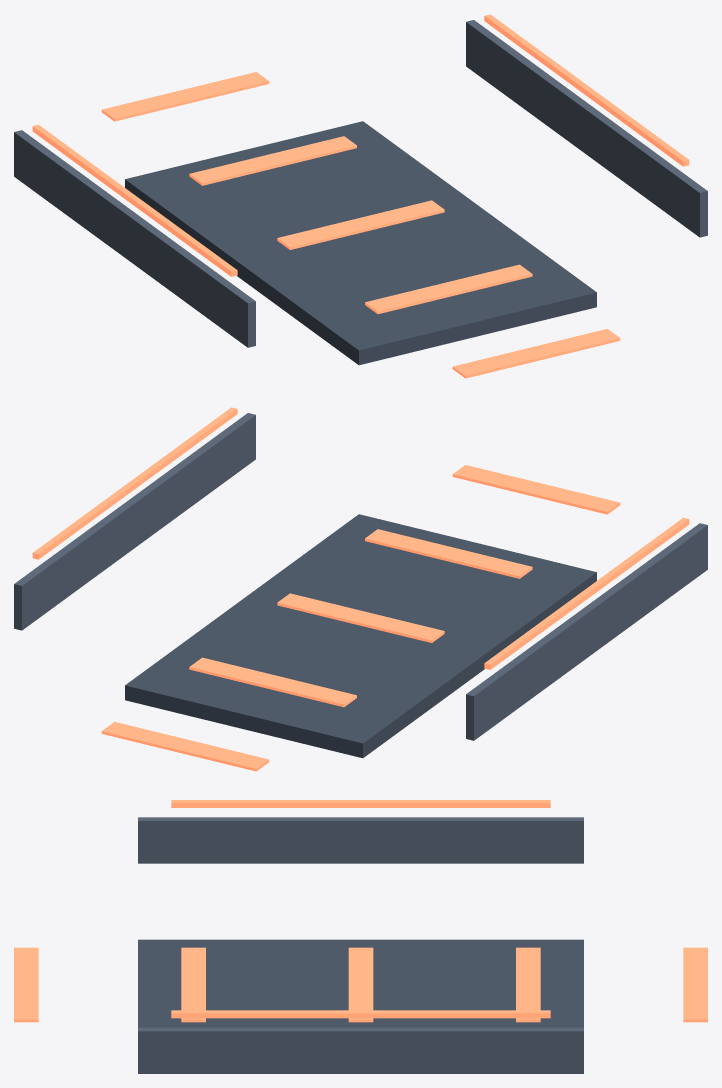
The model's file is track_slow.glb.
The picture shows the model from 3 angles, top to bottom: view 1: azimuth 30°, elevation 25°; view 2: azimuth 150°, elevation 25°; view 3: azimuth 270°, elevation 25°; orthographic projection. The views are drawn at different scales.
Visible parts, largest first — view 1: Track_Slow_Deck, Track_Slow_Rail_L, Track_Slow_Rail_R, Track_Slow, Track_Slow_Warn_L, Track_Slow_Warn_R; view 2: Track_Slow_Deck, Track_Slow_Rail_L, Track_Slow_Rail_R, Track_Slow, Track_Slow_Warn_L, Track_Slow_Warn_R; view 3: Track_Slow_Deck, Track_Slow_Rail_L, Track_Slow_Rail_R, Track_Slow, Track_Slow_Warn_R, Track_Slow_Warn_L.
Part boxes in pixels (x1=…): Track_Slow_Deck: x1=125, y1=121, x2=596, y2=365; Track_Slow_Rail_L: x1=14, y1=130, x2=255, y2=347; Track_Slow_Rail_R: x1=466, y1=20, x2=707, y2=237; Track_Slow: x1=101, y1=72, x2=620, y2=378; Track_Slow_Warn_L: x1=32, y1=124, x2=237, y2=276; Track_Slow_Warn_R: x1=484, y1=14, x2=689, y2=166; Track_Slow_Deck: x1=125, y1=514, x2=596, y2=758; Track_Slow_Rail_L: x1=466, y1=523, x2=707, y2=740; Track_Slow_Rail_R: x1=14, y1=413, x2=255, y2=630; Track_Slow: x1=101, y1=465, x2=620, y2=771; Track_Slow_Warn_L: x1=484, y1=517, x2=689, y2=669; Track_Slow_Warn_R: x1=32, y1=407, x2=237, y2=559; Track_Slow_Deck: x1=138, y1=939, x2=583, y2=1027; Track_Slow_Rail_L: x1=138, y1=817, x2=583, y2=863; Track_Slow_Rail_R: x1=138, y1=1027, x2=583, y2=1073; Track_Slow: x1=14, y1=947, x2=707, y2=1022; Track_Slow_Warn_R: x1=171, y1=1010, x2=550, y2=1018; Track_Slow_Warn_L: x1=171, y1=800, x2=550, y2=807.
Bounding box in the file's own units: 2.27 × 0.5075 × 3.11.
